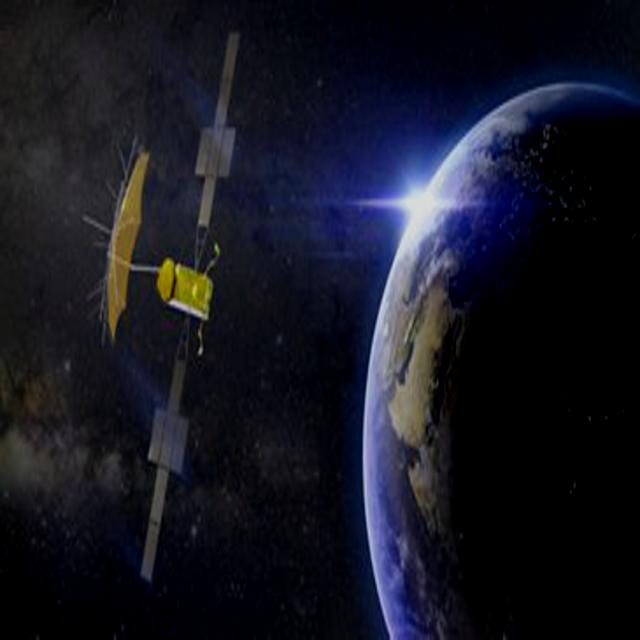medium_debris: (66, 0, 264, 628)
